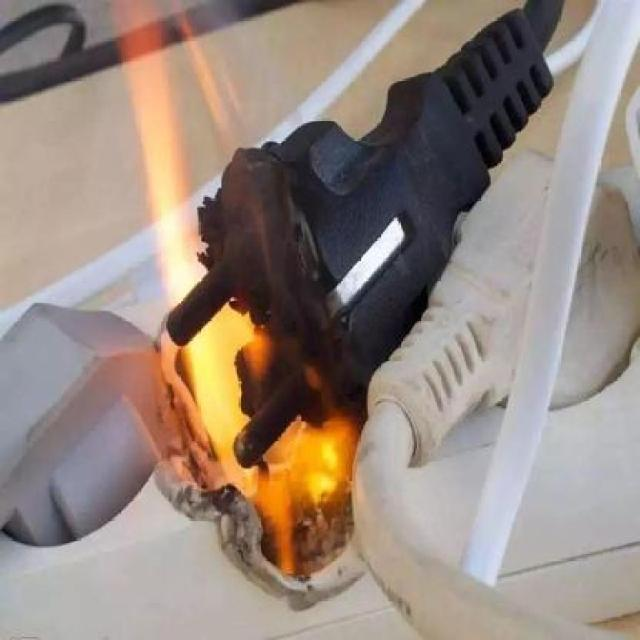Fire: (105, 1, 368, 580)
